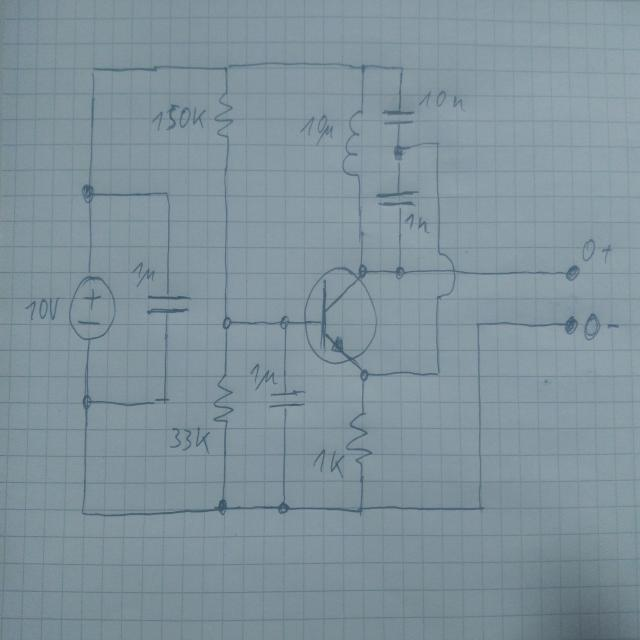capacitor: (145, 291, 193, 317), (374, 187, 421, 209), (268, 388, 307, 411), (382, 108, 416, 128)
crossover: (432, 247, 459, 304)
inductor: (340, 107, 365, 181)
junction: (82, 181, 98, 206), (389, 141, 407, 163), (215, 496, 231, 520), (275, 499, 293, 518), (473, 498, 489, 519), (159, 184, 174, 206), (356, 259, 370, 281), (430, 365, 446, 384), (393, 264, 408, 283), (80, 392, 95, 411), (220, 314, 234, 334), (355, 60, 370, 78), (278, 314, 292, 333), (218, 61, 234, 77), (158, 390, 172, 408), (396, 59, 408, 78), (472, 317, 485, 334), (358, 366, 369, 384), (78, 503, 89, 521), (89, 64, 101, 80), (355, 503, 366, 519), (432, 138, 442, 154)
resistor: (346, 406, 374, 474), (212, 369, 235, 428), (212, 87, 235, 144)
source: (66, 274, 117, 342)
terminal: (561, 312, 580, 337), (564, 261, 580, 284)
text: (150, 103, 207, 133), (298, 112, 334, 147), (168, 426, 211, 455), (582, 310, 620, 342), (417, 89, 468, 112), (313, 447, 345, 481), (579, 236, 614, 267), (24, 295, 61, 324), (248, 363, 278, 391), (130, 261, 160, 287), (403, 211, 431, 234)
transistor: (302, 264, 380, 368)
